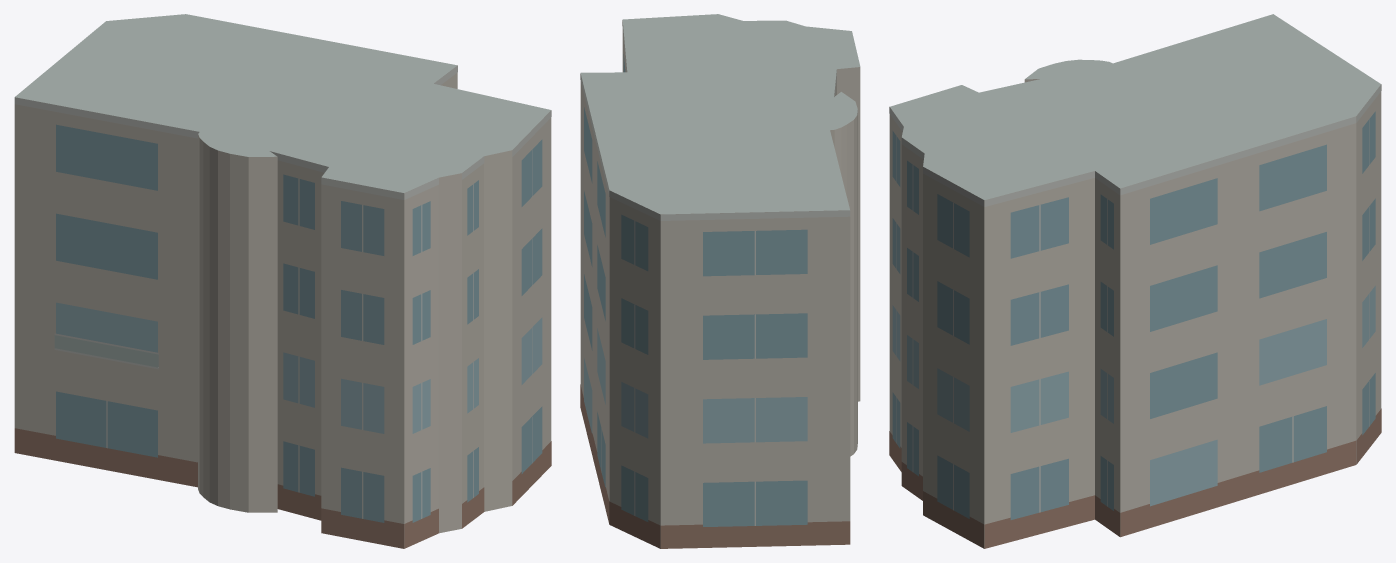
File: survey-upis-32893986.glb
3 views of the same model, side by side, from view 1: azimuth 30°, elevation 25°; view 2: azimuth 150°, elevation 25°; view 3: azimuth 270°, elevation 25° (orthographic). The views are drawn at different scales.
Visible parts, largest first — view 1: survey-upis-32893986.tmp; view 2: survey-upis-32893986.tmp; view 3: survey-upis-32893986.tmp.
Boxes of the visible parts, <box> form: survey-upis-32893986.tmp: <box>14,14,551,548</box>; survey-upis-32893986.tmp: <box>580,14,860,548</box>; survey-upis-32893986.tmp: <box>889,14,1381,548</box>.
Size of the model in its own units: 14.22 by 12.4 by 15.86.
